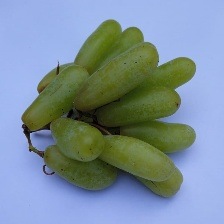grapes: (63, 19, 205, 206)
